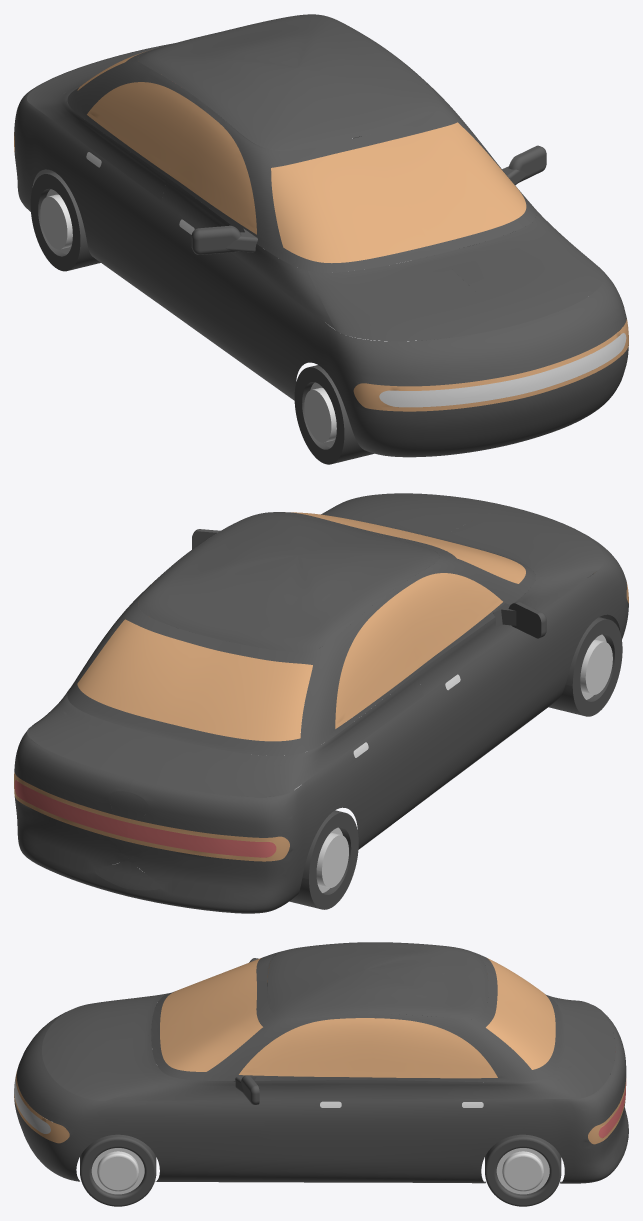
Rendered from simple_sedan_scaled.glb.
3 renders of one model, top to bottom at view 1: azimuth 30°, elevation 25°; view 2: azimuth 150°, elevation 25°; view 3: azimuth 270°, elevation 25°, orthographic. The views are drawn at different scales.
Parts seen in each view (by area): view 1: bdbefd36-24fb-4ac5-af47-3f14d383caa2, aa851d33-c196-486f-955e-0226bc05ca95, front-glass, a5f80437-9b58-47e1-8e25-0314a679cb75, baff5b62-9240-4793-936b-da362f80b22e, a8b0b07f-3c23-4caf-94e2-edb4378abfed, d21f9169-e5c0-4c4e-b4a1-7c1f64a791ca, b3877f3b-34c7-479c-9ac9-638aafba2a86, front wheel, back wheel, fd473643-4dc1-4a22-af75-bde4507175e8, de52139c-9ec2-4900-9f16-978183e8c267 (+2 smaller); view 2: bdbefd36-24fb-4ac5-af47-3f14d383caa2, aa851d33-c196-486f-955e-0226bc05ca95, baff5b62-9240-4793-936b-da362f80b22e, fc5c2b46-68b4-4f7c-8998-8a801e371539, a8b0b07f-3c23-4caf-94e2-edb4378abfed, a5f80437-9b58-47e1-8e25-0314a679cb75, front wheel, back wheel, front-glass, c3c2a30c-73df-4ebc-be39-5b38c0b72237, a7fb408f-28a9-4c50-8d7e-3c6c445bb19d, abc052c0-77ae-40ab-9080-20611b35a9ff (+6 smaller); view 3: bdbefd36-24fb-4ac5-af47-3f14d383caa2, aa851d33-c196-486f-955e-0226bc05ca95, baff5b62-9240-4793-936b-da362f80b22e, side-glass, front-glass, fc5c2b46-68b4-4f7c-8998-8a801e371539, a5f80437-9b58-47e1-8e25-0314a679cb75, back wheel, front wheel, de52139c-9ec2-4900-9f16-978183e8c267, fd473643-4dc1-4a22-af75-bde4507175e8, b3877f3b-34c7-479c-9ac9-638aafba2a86 (+5 smaller).
Part boxes in pixels (x1=…): bdbefd36-24fb-4ac5-af47-3f14d383caa2: x1=14, y1=43, x2=628, y2=457; aa851d33-c196-486f-955e-0226bc05ca95: x1=67, y1=14, x2=535, y2=272; front-glass: x1=271, y1=122, x2=526, y2=263; a5f80437-9b58-47e1-8e25-0314a679cb75: x1=161, y1=177, x2=507, y2=341; baff5b62-9240-4793-936b-da362f80b22e: x1=27, y1=44, x2=604, y2=326; a8b0b07f-3c23-4caf-94e2-edb4378abfed: x1=87, y1=82, x2=256, y2=234; d21f9169-e5c0-4c4e-b4a1-7c1f64a791ca: x1=379, y1=333, x2=626, y2=407; b3877f3b-34c7-479c-9ac9-638aafba2a86: x1=353, y1=319, x2=628, y2=411; front wheel: x1=294, y1=337, x2=449, y2=464; back wheel: x1=30, y1=132, x2=350, y2=271; fd473643-4dc1-4a22-af75-bde4507175e8: x1=40, y1=194, x2=72, y2=249; de52139c-9ec2-4900-9f16-978183e8c267: x1=304, y1=387, x2=336, y2=442; bdbefd36-24fb-4ac5-af47-3f14d383caa2: x1=14, y1=496, x2=628, y2=913; aa851d33-c196-486f-955e-0226bc05ca95: x1=67, y1=512, x2=535, y2=755; baff5b62-9240-4793-936b-da362f80b22e: x1=27, y1=493, x2=507, y2=796; fc5c2b46-68b4-4f7c-8998-8a801e371539: x1=77, y1=619, x2=312, y2=741; a8b0b07f-3c23-4caf-94e2-edb4378abfed: x1=335, y1=573, x2=502, y2=728; a5f80437-9b58-47e1-8e25-0314a679cb75: x1=419, y1=506, x2=604, y2=695; front wheel: x1=548, y1=617, x2=622, y2=716; back wheel: x1=128, y1=788, x2=358, y2=909; front-glass: x1=285, y1=512, x2=525, y2=583; c3c2a30c-73df-4ebc-be39-5b38c0b72237: x1=144, y1=826, x2=276, y2=857; a7fb408f-28a9-4c50-8d7e-3c6c445bb19d: x1=143, y1=822, x2=289, y2=861; abc052c0-77ae-40ab-9080-20611b35a9ff: x1=14, y1=780, x2=111, y2=832; bdbefd36-24fb-4ac5-af47-3f14d383caa2: x1=14, y1=1005, x2=628, y2=1183; aa851d33-c196-486f-955e-0226bc05ca95: x1=151, y1=942, x2=564, y2=1082; baff5b62-9240-4793-936b-da362f80b22e: x1=42, y1=995, x2=615, y2=1101; side-glass: x1=239, y1=1018, x2=497, y2=1078; front-glass: x1=160, y1=958, x2=262, y2=1071; fc5c2b46-68b4-4f7c-8998-8a801e371539: x1=486, y1=958, x2=555, y2=1069; a5f80437-9b58-47e1-8e25-0314a679cb75: x1=42, y1=986, x2=267, y2=1050; back wheel: x1=485, y1=1134, x2=561, y2=1206; front wheel: x1=80, y1=1134, x2=156, y2=1206; de52139c-9ec2-4900-9f16-978183e8c267: x1=97, y1=1151, x2=138, y2=1191; fd473643-4dc1-4a22-af75-bde4507175e8: x1=502, y1=1151, x2=543, y2=1191; b3877f3b-34c7-479c-9ac9-638aafba2a86: x1=14, y1=1070, x2=69, y2=1143.
Bounding box in the file's own units: 0.6314 × 0.414 × 1.24.
